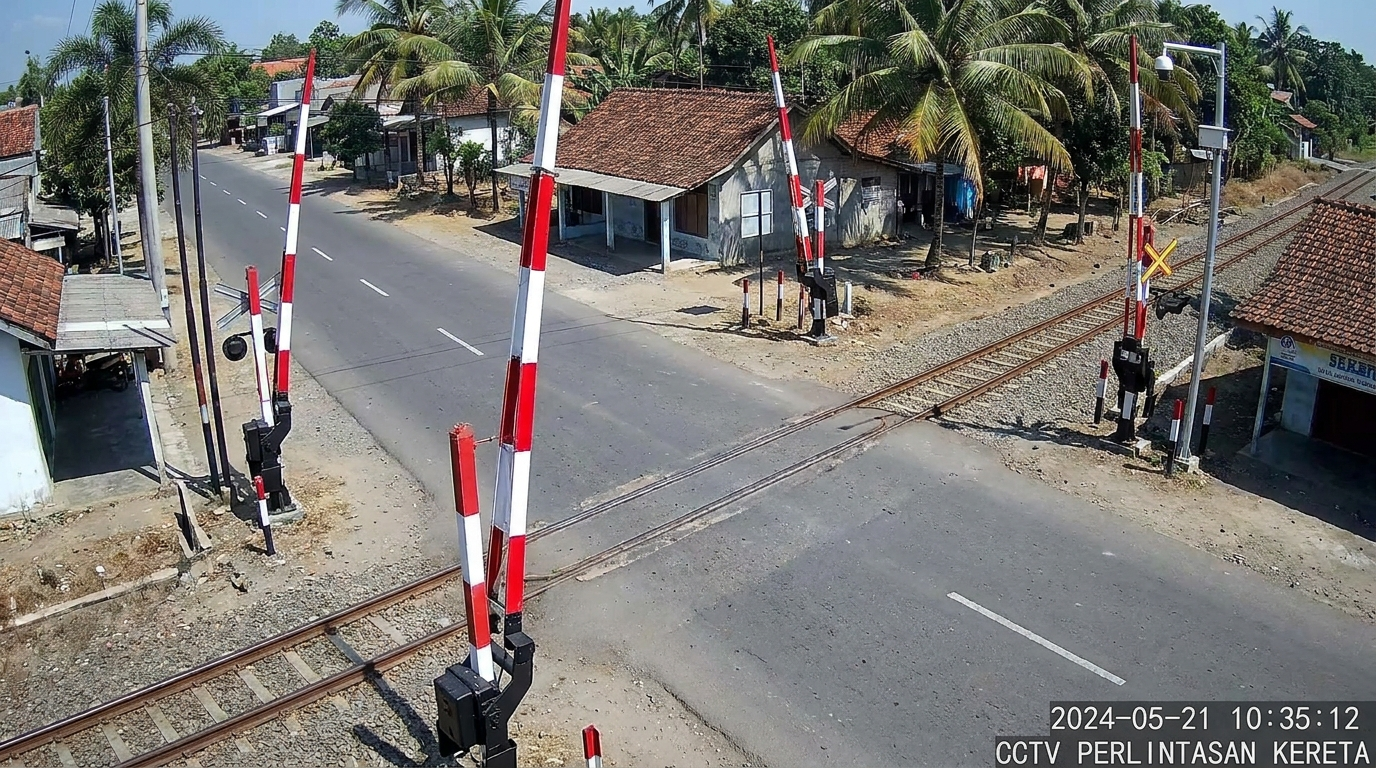safe: (488, 0, 567, 635), (274, 84, 311, 404), (767, 36, 811, 264), (1129, 36, 1143, 234)
